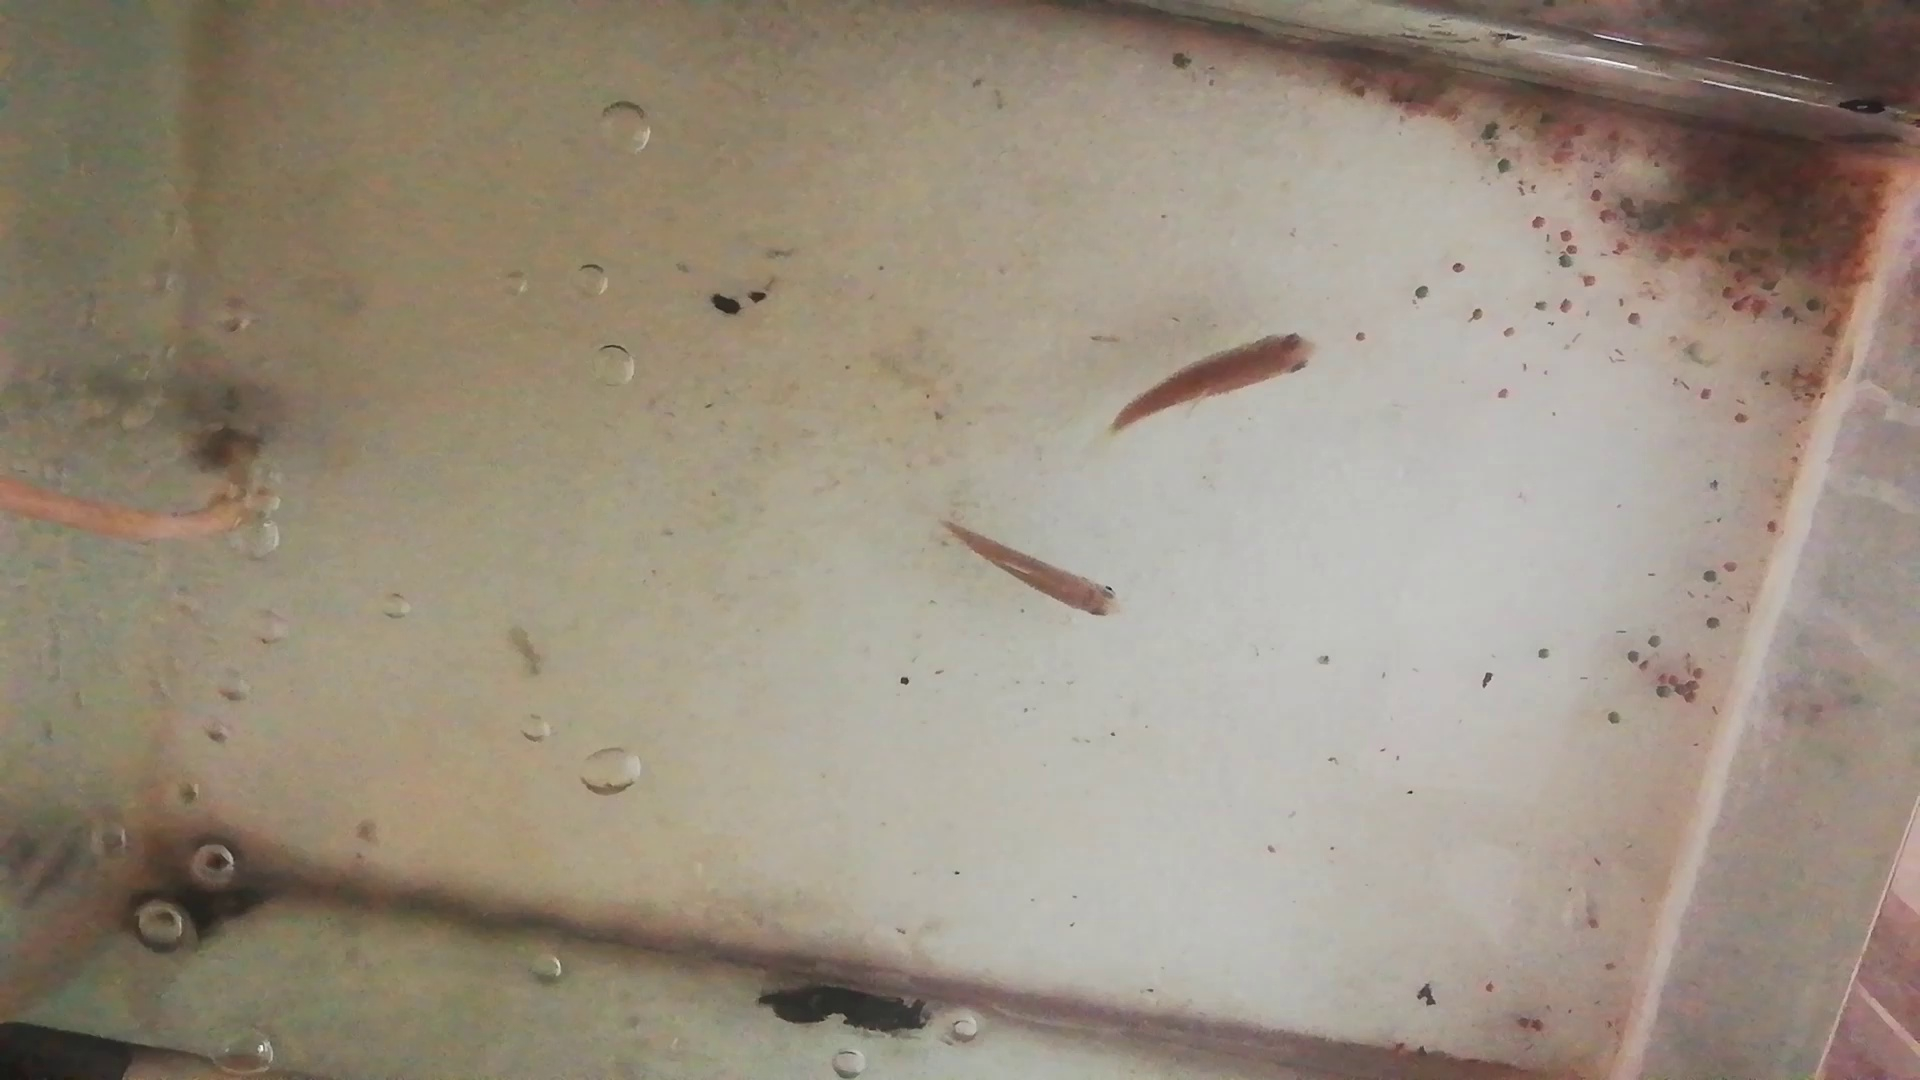fish: (1109, 334, 1315, 427), (951, 524, 1124, 622)
